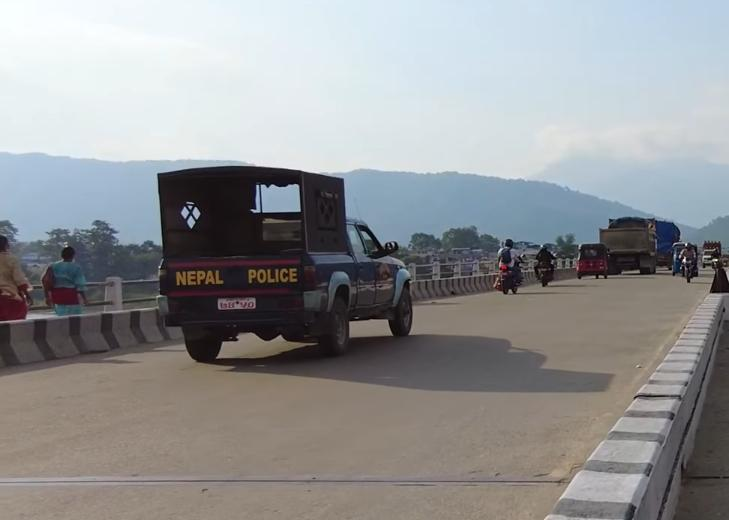police_vehicle: (151, 159, 425, 359)
